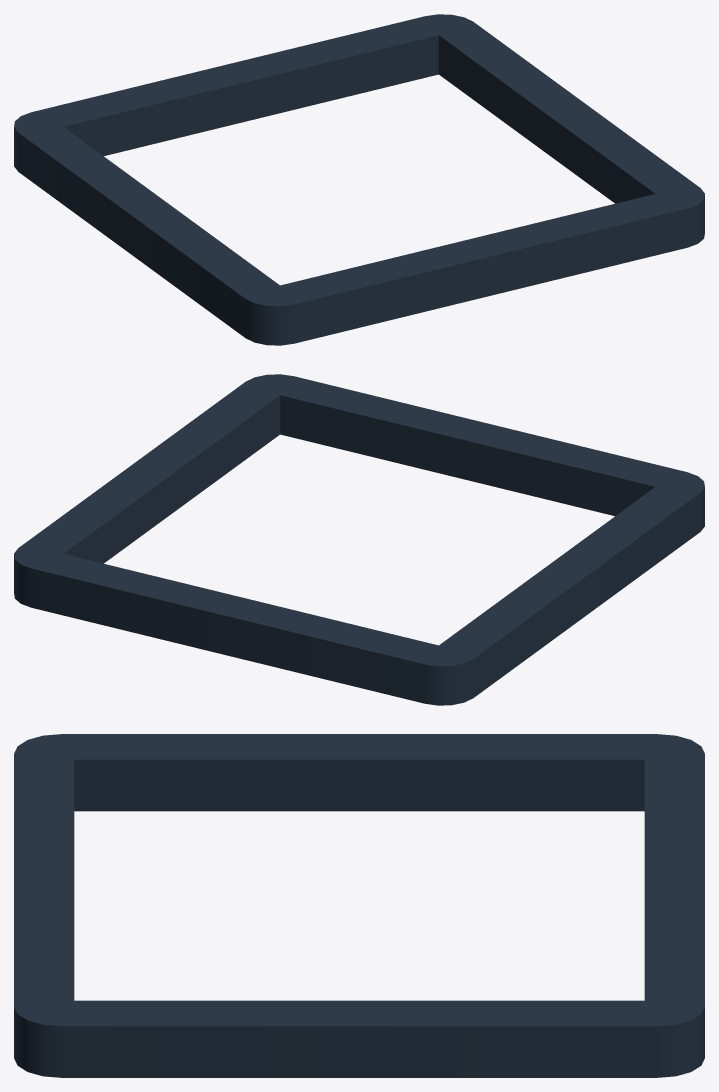
The model's file is Playing_Field_Cell.fbx.
3 renders of one model, top to bottom at view 1: azimuth 30°, elevation 25°; view 2: azimuth 150°, elevation 25°; view 3: azimuth 270°, elevation 25°, orthographic. The views are drawn at different scales.
Visible parts, largest first — view 1: Playing_Field_Cell; view 2: Playing_Field_Cell; view 3: Playing_Field_Cell.
Part boxes in pixels (box(x1,y1,x2,y2)): Playing_Field_Cell: box(14, 14, 704, 345); Playing_Field_Cell: box(14, 374, 704, 705); Playing_Field_Cell: box(14, 734, 704, 1077).
Bounding box in the file's own units: 1.52 × 0.125 × 1.52.
